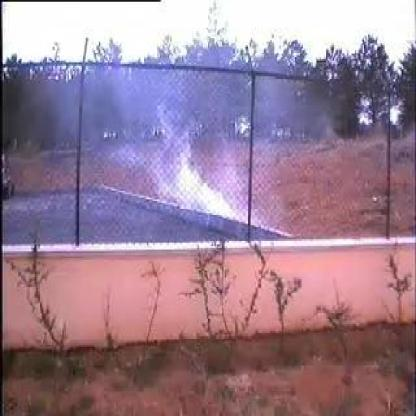-: (111, 98, 263, 228)
